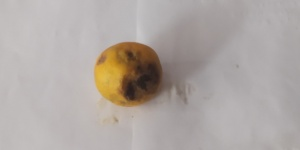BAD: (91, 42, 164, 107)
